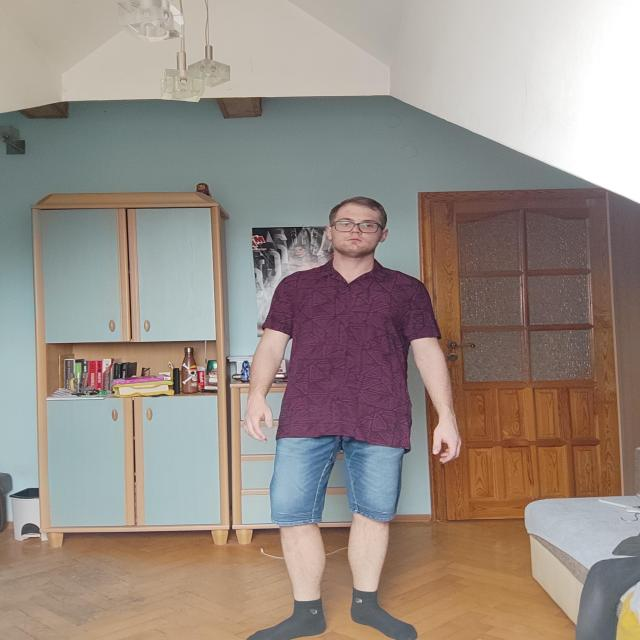shirt: (263, 258, 442, 451)
short: (269, 404, 406, 525)
